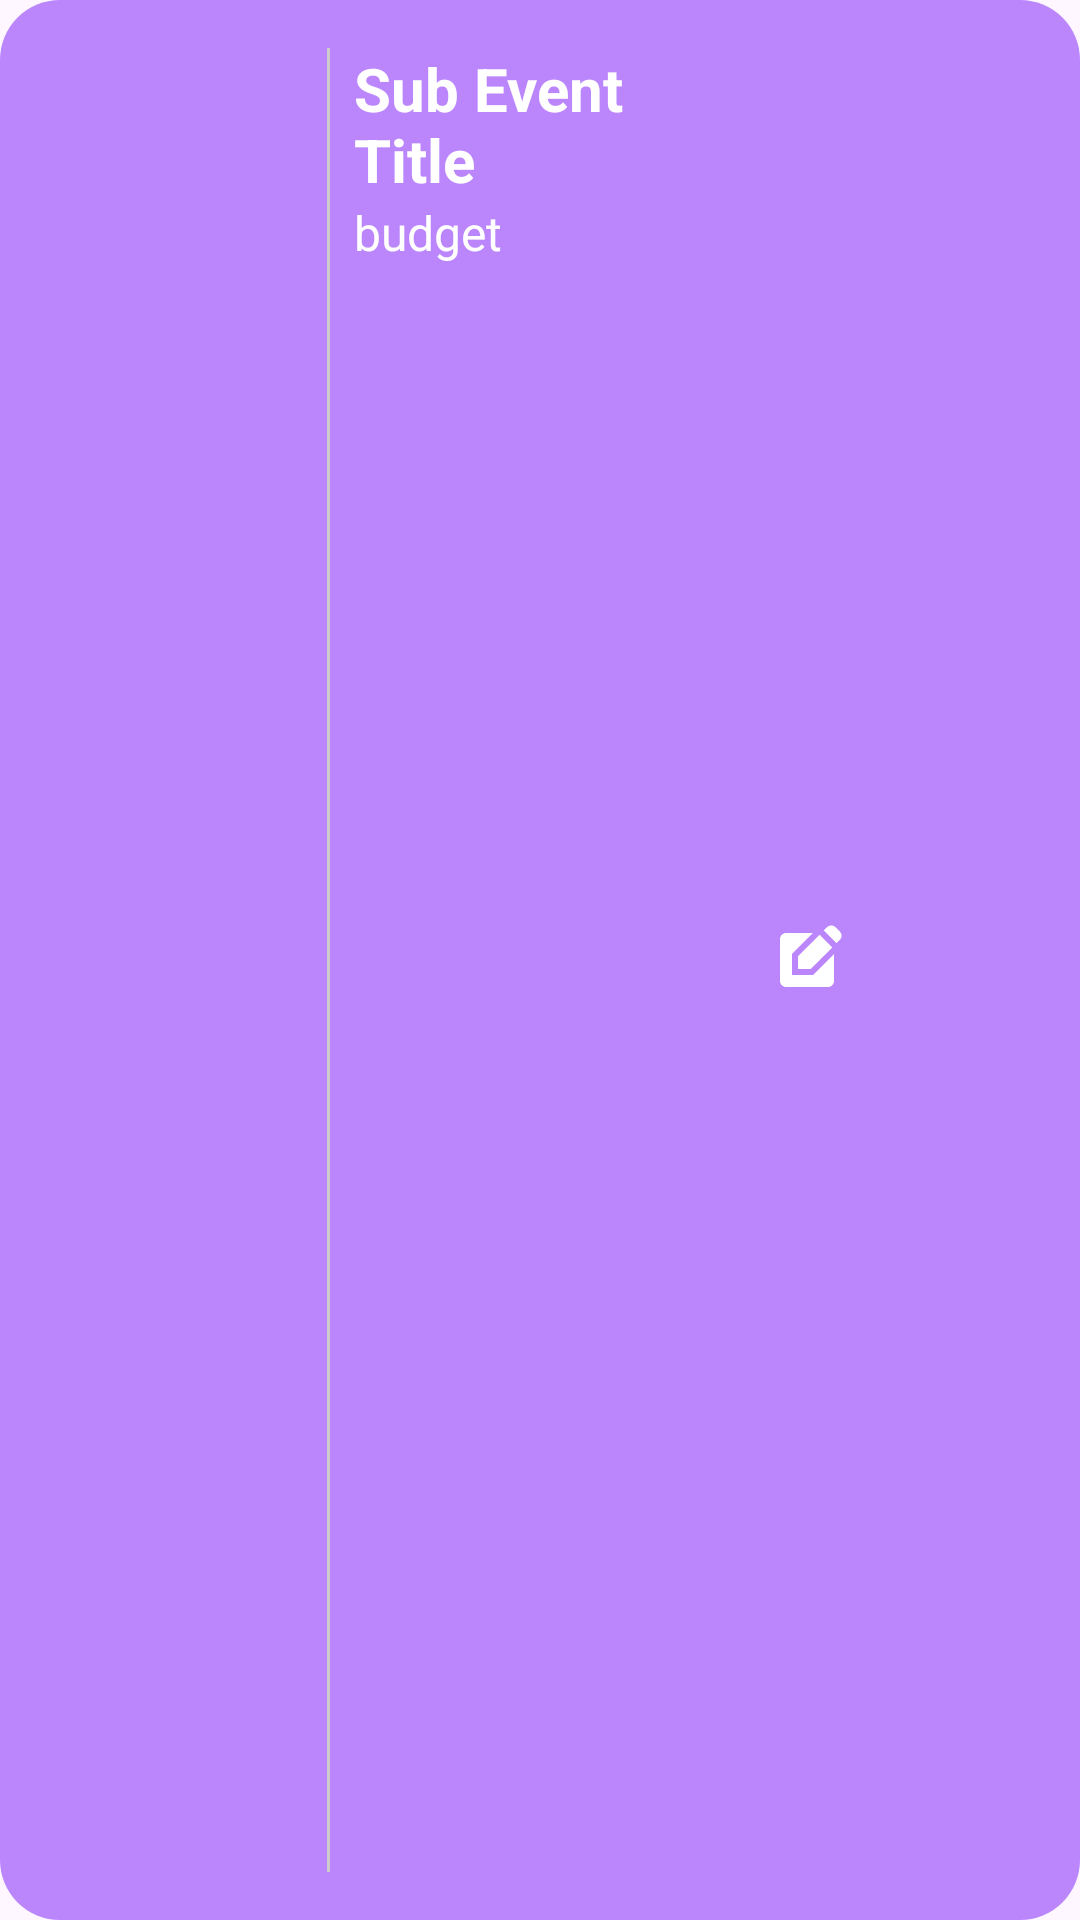

Named icons in this screenshot (1080×1920) and their bounding boxes, BBox(x1, y1, x2, y2):
edit square: BBox(780, 925, 842, 987)
